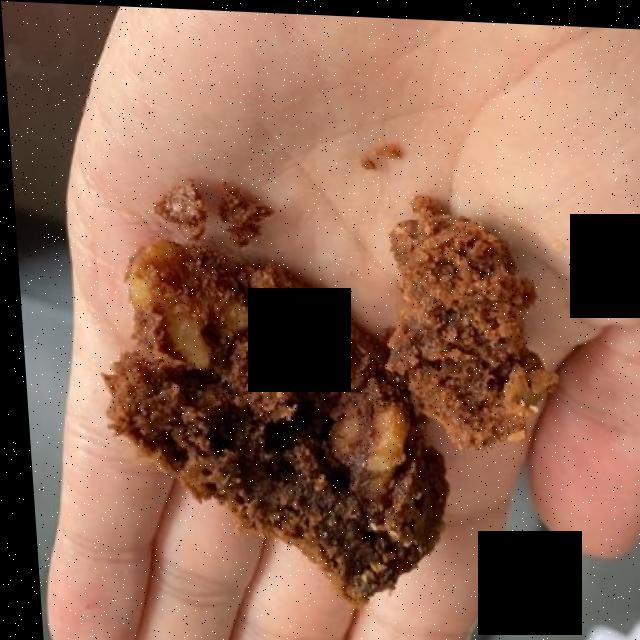cake-chocolate: (107, 236, 532, 593)
